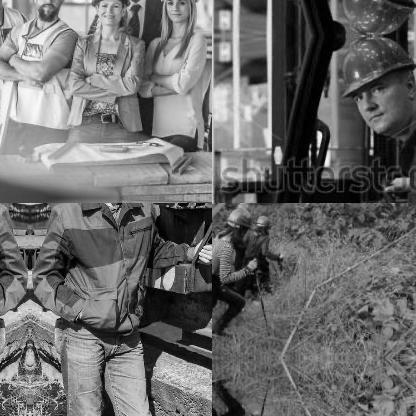Helmet: (326, 33, 415, 139), (326, 0, 415, 36), (87, 0, 132, 30), (155, 0, 201, 24), (225, 205, 249, 239), (28, 0, 72, 18), (254, 212, 268, 232)
